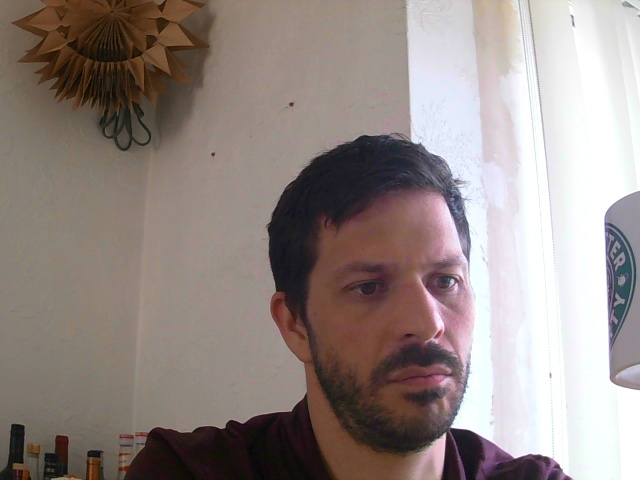mug: (605, 189, 640, 393)
